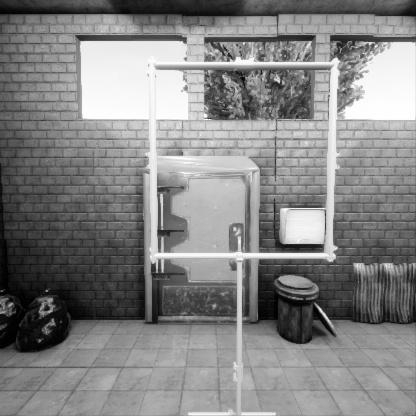gate: (145, 162, 353, 368)
